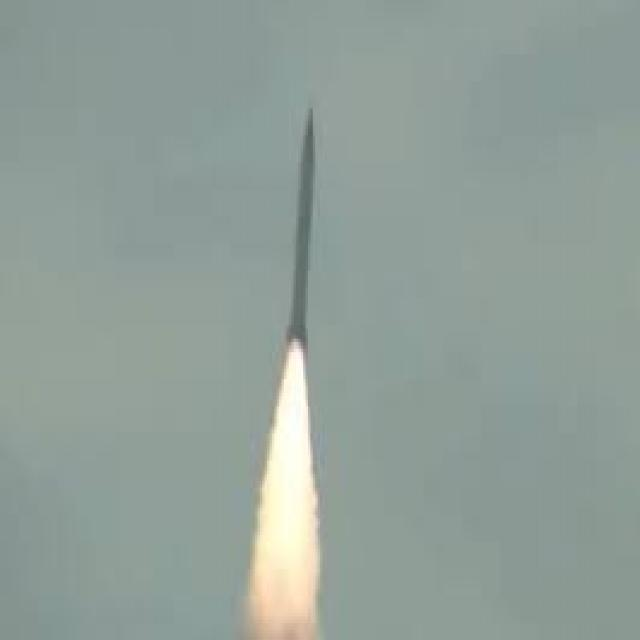missile: (287, 110, 323, 353)
